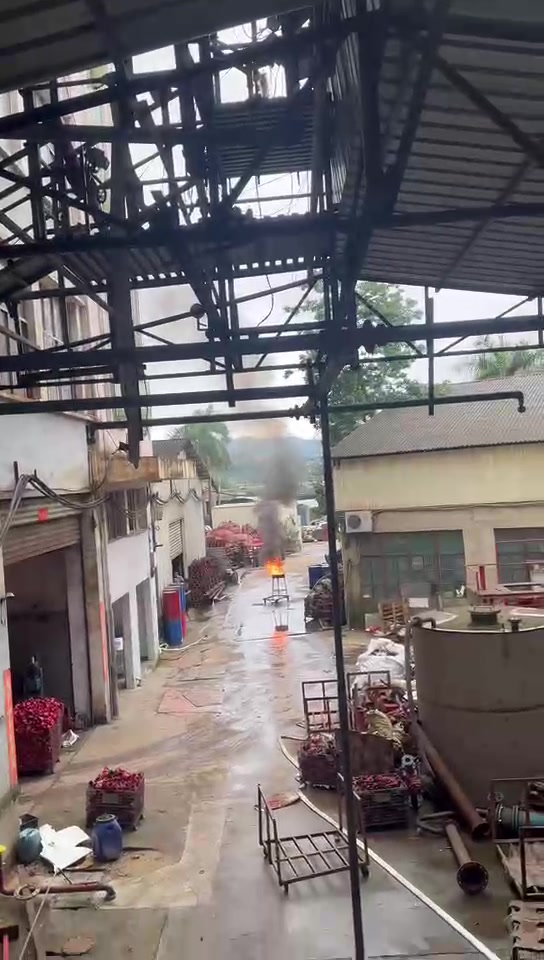fire: (264, 556, 283, 574)
